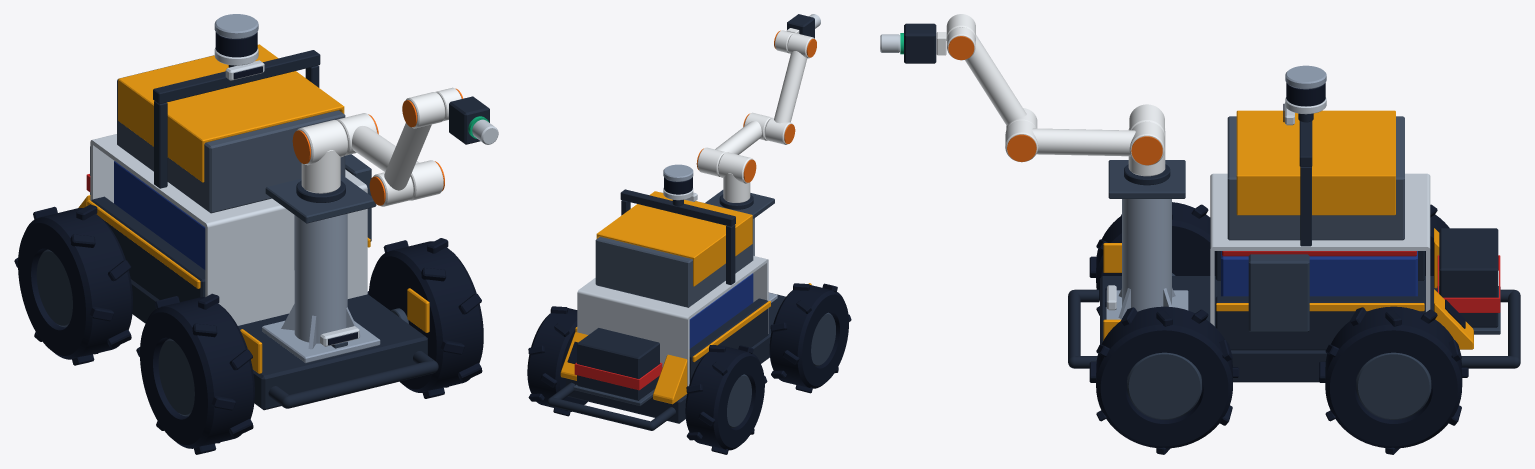
File: InductiveRobotClean.glb
The picture shows the model from 3 angles, left to right: view 1: azimuth 30°, elevation 25°; view 2: azimuth 150°, elevation 25°; view 3: azimuth 270°, elevation 25°; orthographic projection. The views are drawn at different scales.
Visible parts, largest first — view 1: sheet_metal_bridge, wheel_tire_fl, wheel_tire_rl, inverter_yellow_shroud, wheel_tire_fr, inverter_body, chassis_lower_pan, pedestal_column, chassis_side_wall_l, battery_pack_main, arm_forearm_link, arm_upper_link (+18 smaller); view 2: sheet_metal_bridge, inverter_yellow_shroud, wheel_tire_rl, wheel_tire_fl, inverter_body, rear_battery_pack, wheel_tire_rr, arm_forearm_link, chassis_lower_pan, battery_pack_main, chassis_side_wall_l, arm_upper_link (+15 smaller); view 3: inverter_yellow_shroud, wheel_tire_fr, wheel_tire_rr, inverter_body, sheet_metal_bridge, battery_pack_main, pedestal_column, chassis_lower_pan, side_compute_box, rear_battery_pack, chassis_side_wall_r, wheel_hub_rr (+19 smaller).
Boxes of the visible parts, left/top/right/bottom form: sheet_metal_bridge: left=90, top=134, right=367, bottom=325; wheel_tire_fl: left=136, top=293, right=254, bottom=454; wheel_tire_rl: left=14, top=204, right=132, bottom=365; inverter_yellow_shroud: left=118, top=44, right=344, bottom=182; wheel_tire_fr: left=367, top=238, right=483, bottom=398; inverter_body: left=117, top=55, right=345, bottom=213; chassis_lower_pan: left=131, top=279, right=427, bottom=410; pedestal_column: left=281, top=213, right=360, bottom=349; chassis_side_wall_l: left=91, top=196, right=205, bottom=301; battery_pack_main: left=114, top=161, right=205, bottom=269; arm_forearm_link: left=373, top=92, right=445, bottom=206; arm_upper_link: left=336, top=113, right=443, bottom=200; sheet_metal_bridge: left=577, top=256, right=768, bottom=386; inverter_yellow_shroud: left=596, top=191, right=752, bottom=286; wheel_tire_rl: left=685, top=345, right=767, bottom=454; wheel_tire_fl: left=769, top=283, right=851, bottom=393; inverter_body: left=595, top=192, right=753, bottom=307; rear_battery_pack: left=577, top=328, right=659, bottom=400; wheel_tire_rr: left=527, top=306, right=587, bottom=416; arm_forearm_link: left=765, top=33, right=814, bottom=144; chassis_lower_pan: left=566, top=297, right=783, bottom=423; battery_pack_main: left=689, top=273, right=753, bottom=348; chassis_side_wall_l: left=689, top=298, right=768, bottom=382; arm_upper_link: left=697, top=112, right=772, bottom=176; inverter_yellow_shroud: left=1236, top=110, right=1395, bottom=215; wheel_tire_fr: left=1089, top=306, right=1239, bottom=454; wheel_tire_rr: left=1319, top=306, right=1468, bottom=454; inverter_body: left=1227, top=116, right=1404, bottom=240; sheet_metal_bridge: left=1210, top=173, right=1430, bottom=325; battery_pack_main: left=1221, top=251, right=1417, bottom=296; pedestal_column: left=1118, top=199, right=1175, bottom=318; chassis_lower_pan: left=1100, top=276, right=1437, bottom=382; side_compute_box: left=1248, top=254, right=1309, bottom=331; rear_battery_pack: left=1439, top=228, right=1498, bottom=327; chassis_side_wall_r: left=1215, top=296, right=1424, bottom=350; wheel_hub_rr: left=1356, top=352, right=1431, bottom=419.
Size of the model in its own units: 0.669 by 0.929 by 1.43.
